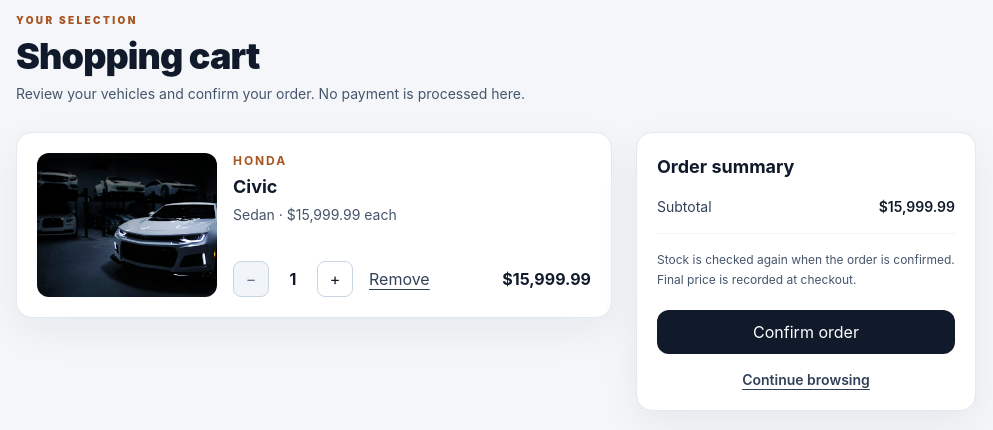
Scenario: customer cart and checkout › limits cart quantity to live stock and supports removing a cart item
Expected: the text "Honda" is shown, [233, 153, 287, 168]
Expected: the text "$15,999.99" is shown 2 times, [502, 267, 591, 291]; [879, 197, 955, 217]
Click the button named "increase civic quantity" at (335, 279), box [317, 261, 353, 297]
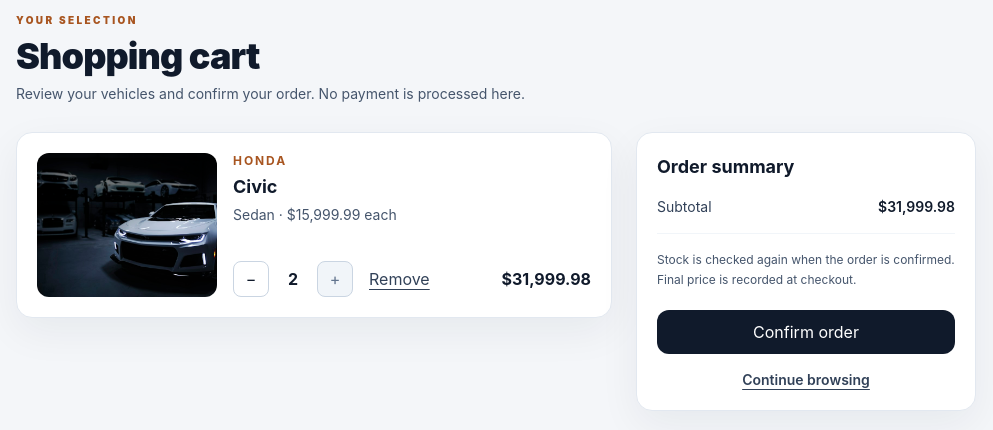
Expected: the button "Confirm order" is enabled, [657, 310, 955, 354]
Now the text named "Quantity" reads "2", box [288, 269, 298, 289]
Click the button "Remove" at (399, 279), box [369, 267, 430, 291]
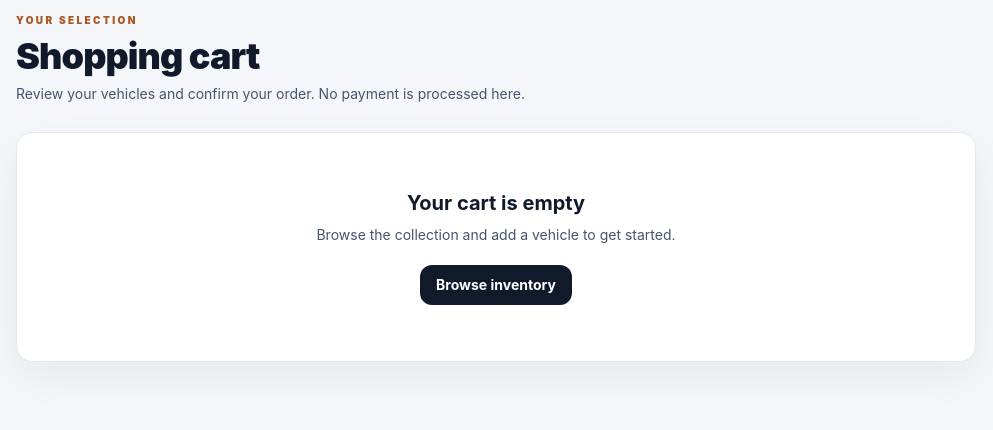
Now the heading "Your cart is empty" is shown, box [407, 191, 585, 215]
